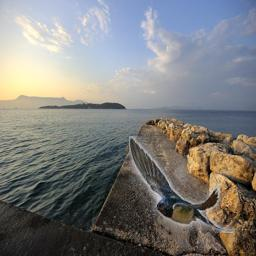Swallow: (129, 136, 234, 233)
